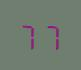seven: (40, 19, 60, 50), (19, 19, 39, 49)
